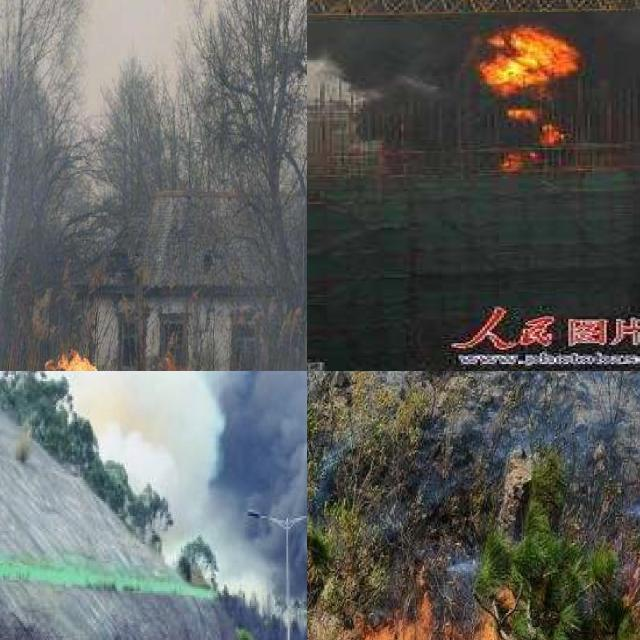fire: (478, 20, 582, 175), (307, 583, 526, 640)
smoke: (307, 0, 640, 140), (0, 371, 204, 537), (209, 371, 307, 636)
